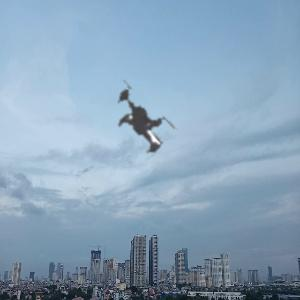drone: (69, 58, 208, 197)
